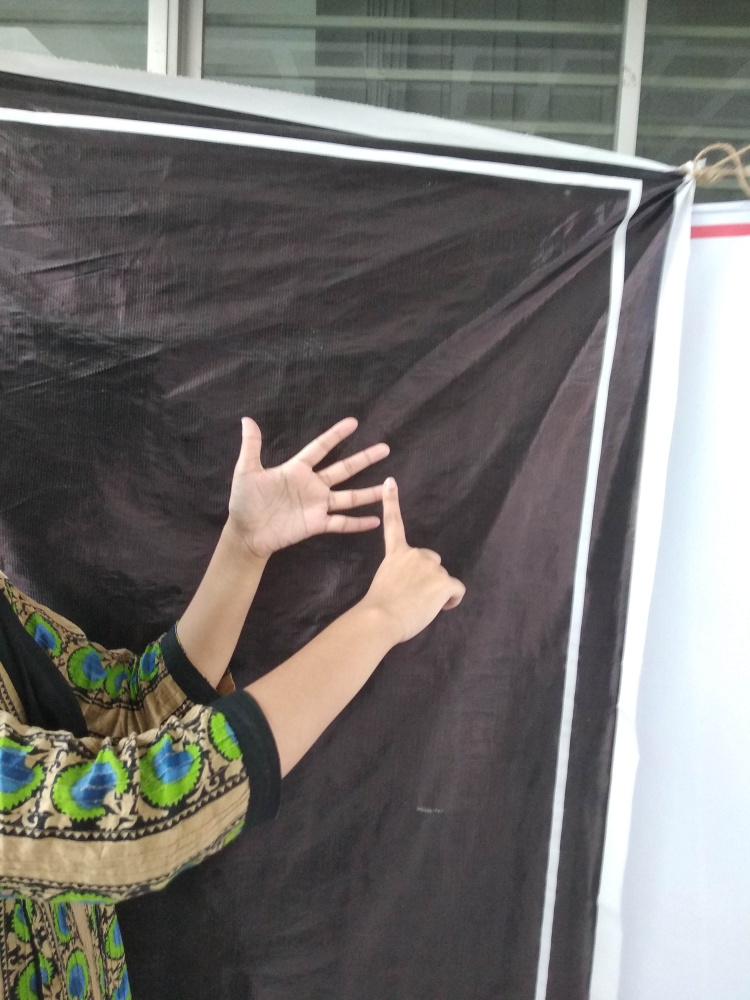e: (230, 407, 438, 609)
